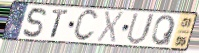C: (71, 9, 99, 43)
Q: (150, 14, 177, 46)
S: (22, 7, 48, 39)
T: (50, 9, 71, 39)
U: (125, 12, 157, 46)
X: (95, 10, 126, 45)
